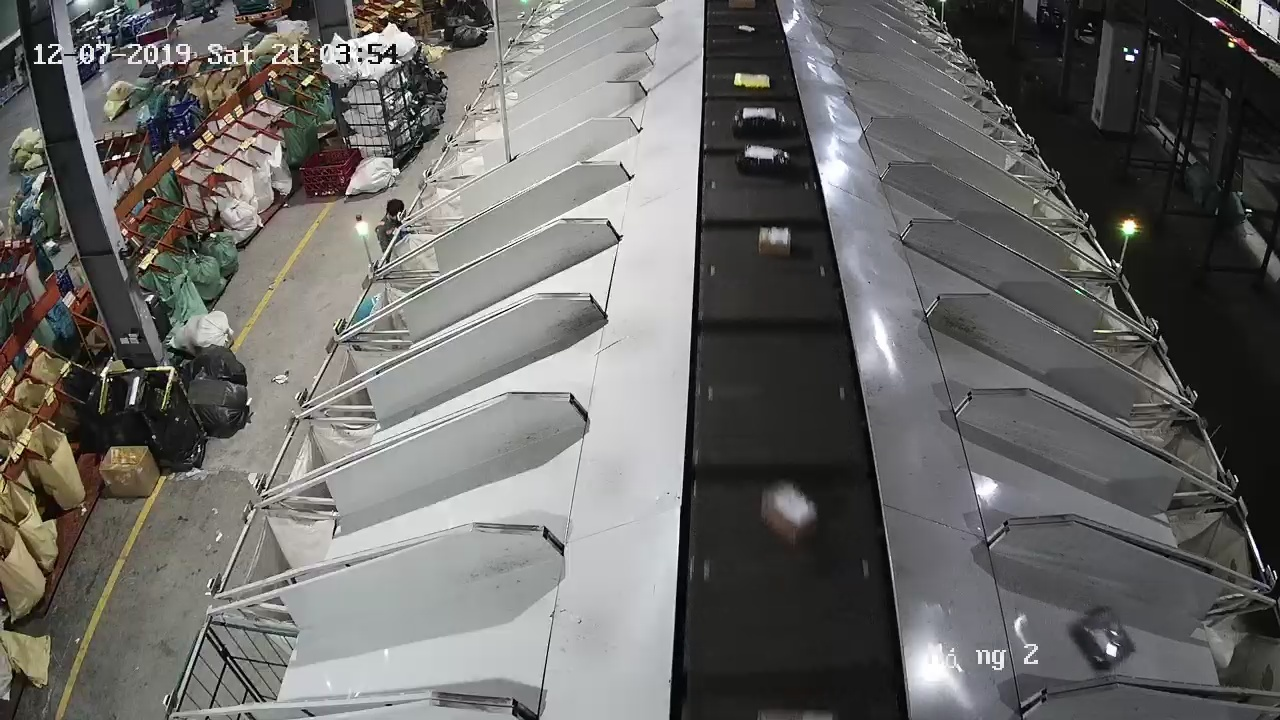parcel: (1068, 605, 1136, 671)
